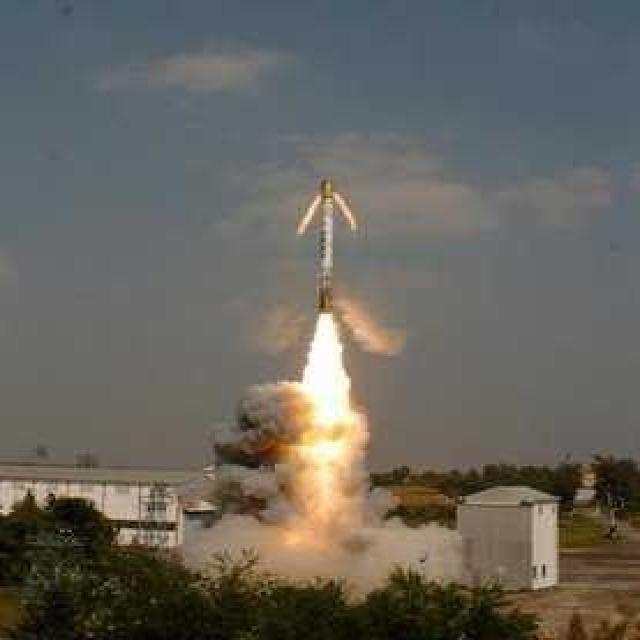missile: (298, 179, 358, 316)
